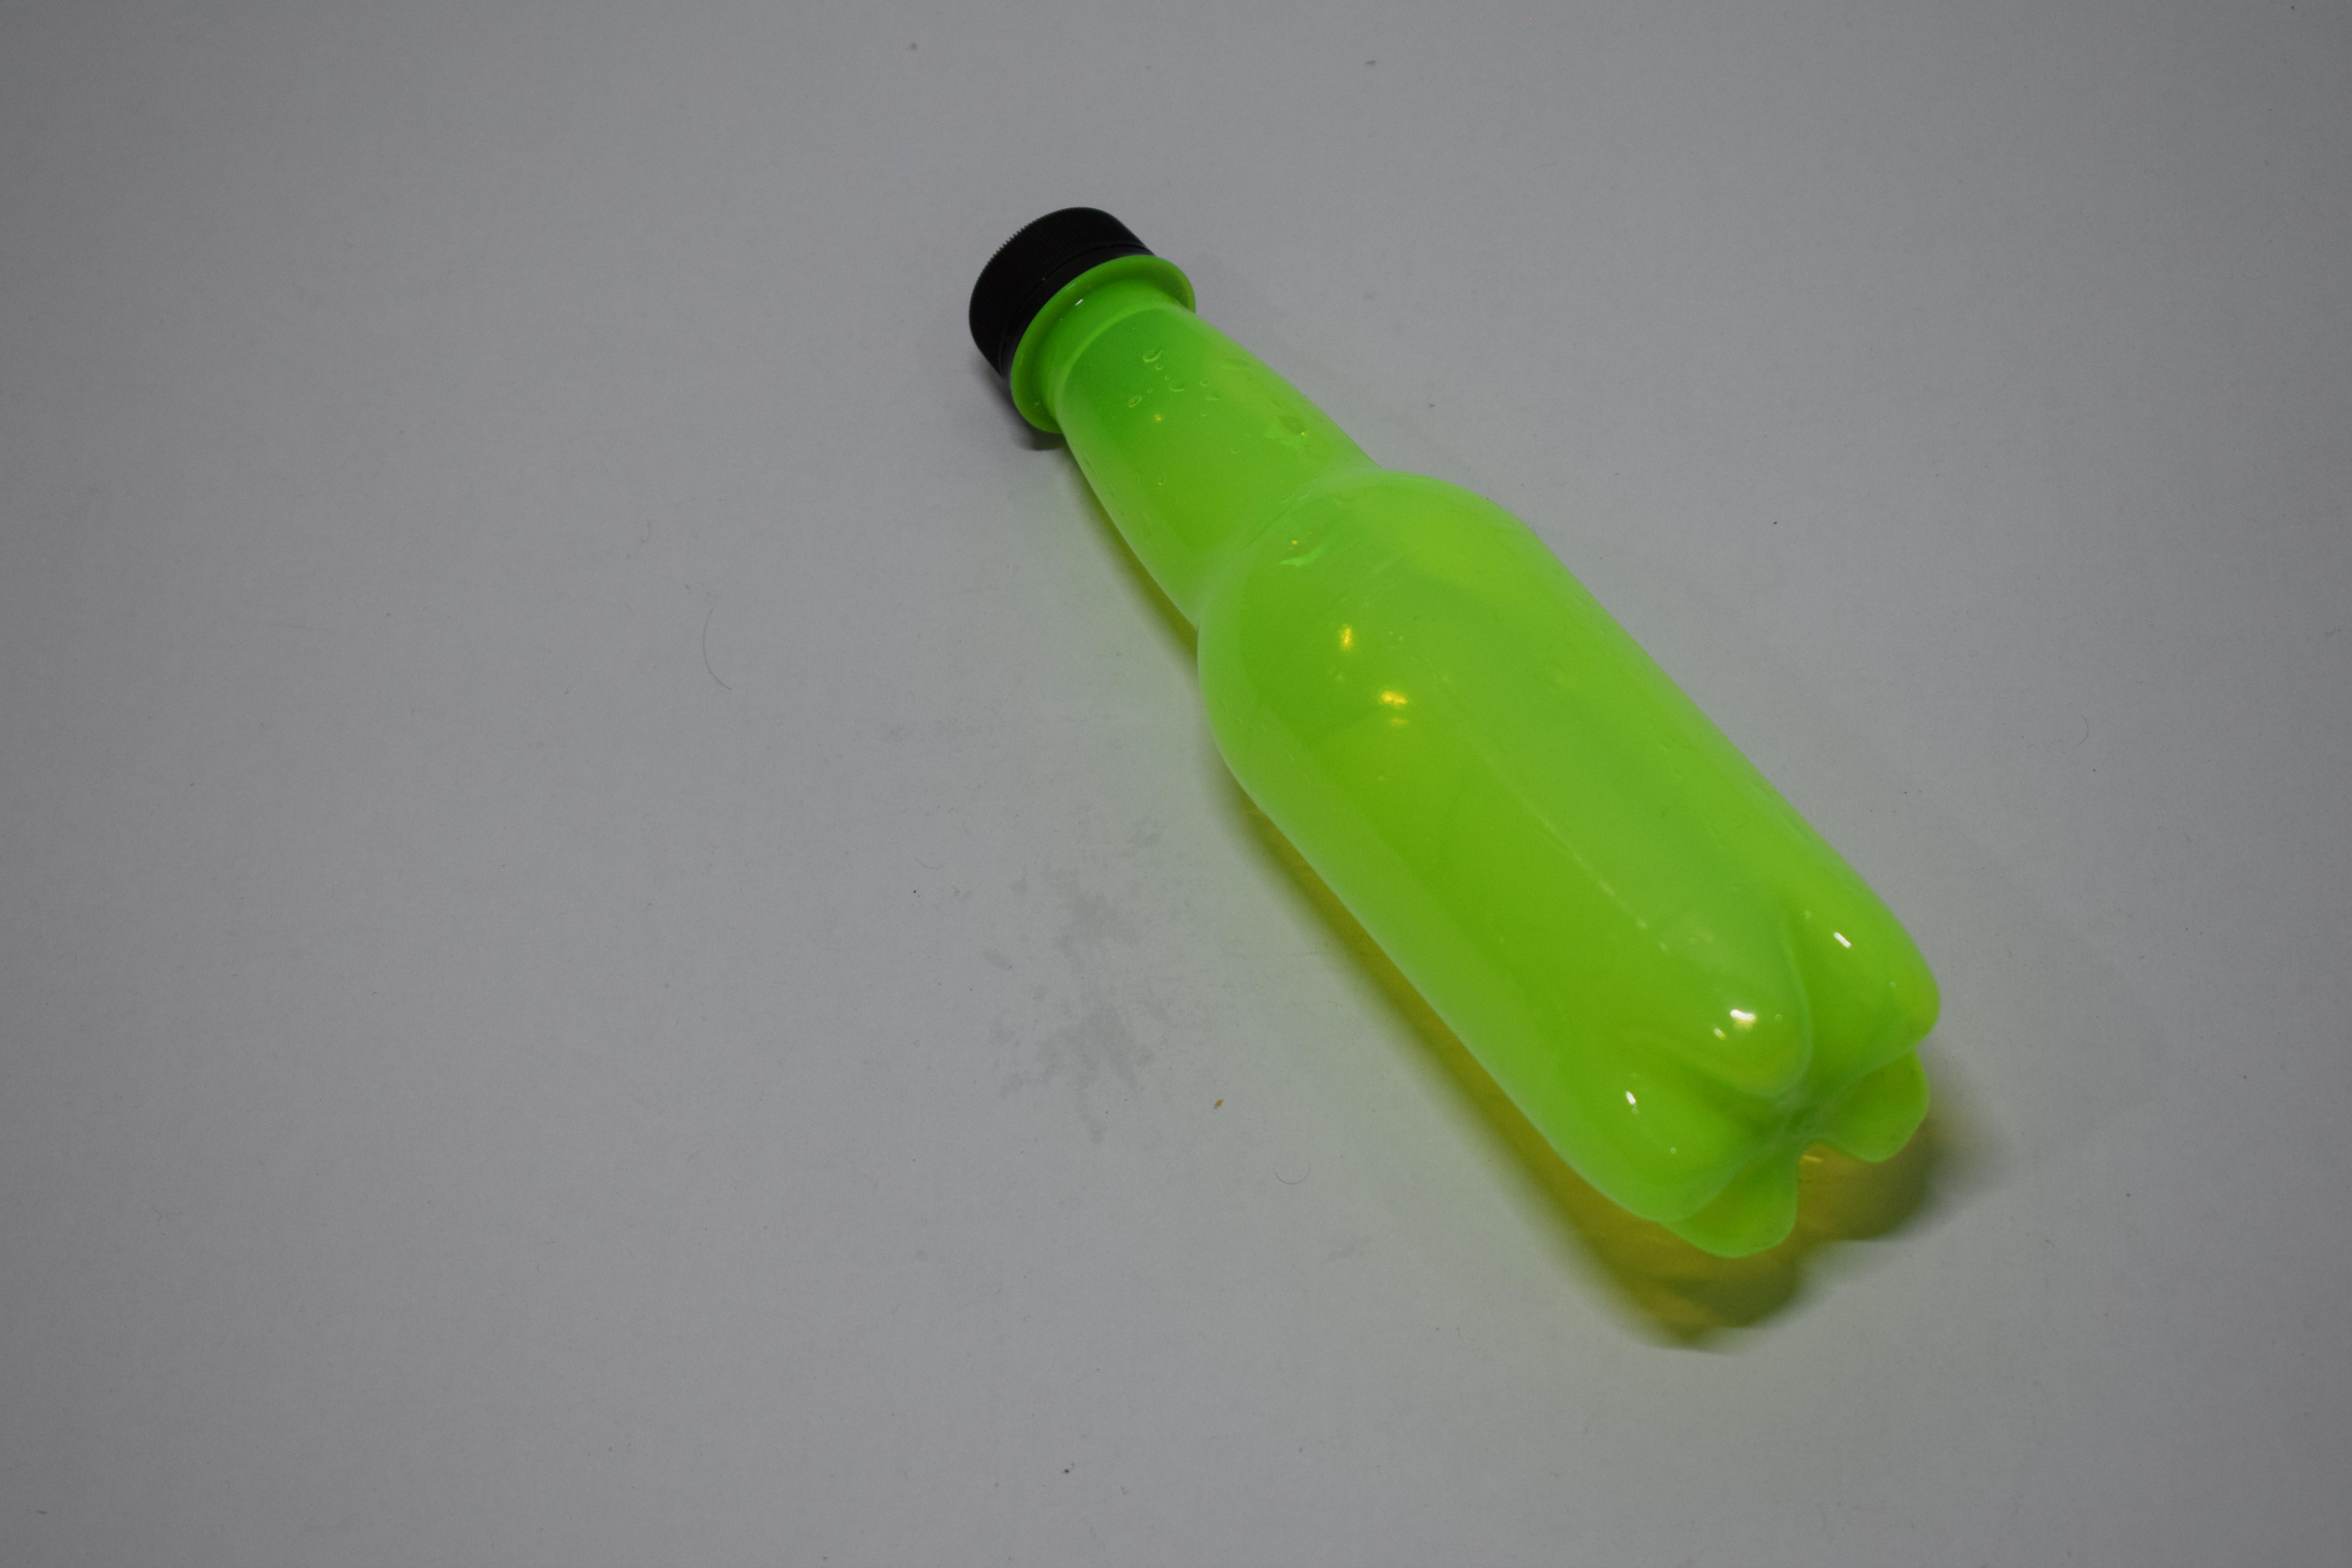bottle: (961, 191, 1948, 1274)
